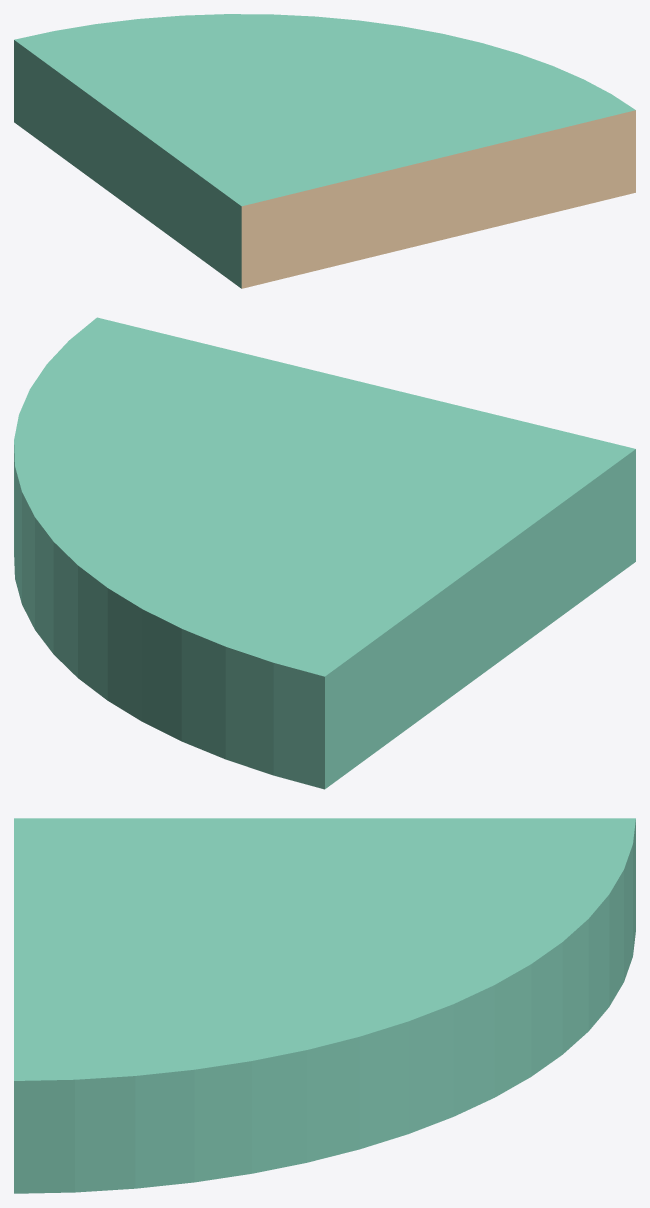
The model's file is curva chingona.fbx.
3 views of the same model, one above another, from view 1: azimuth 30°, elevation 25°; view 2: azimuth 150°, elevation 25°; view 3: azimuth 270°, elevation 25° (orthographic). The views are drawn at different scales.
Parts seen in each view (by area): view 1: tile; view 2: tile; view 3: tile.
Part boxes in pixels (box(x1,y1,x2,y2)): tile: box(14, 14, 635, 288); tile: box(14, 317, 635, 789); tile: box(14, 818, 635, 1193).
Size of the model in its own units: 1000 by 200 by 1000.
